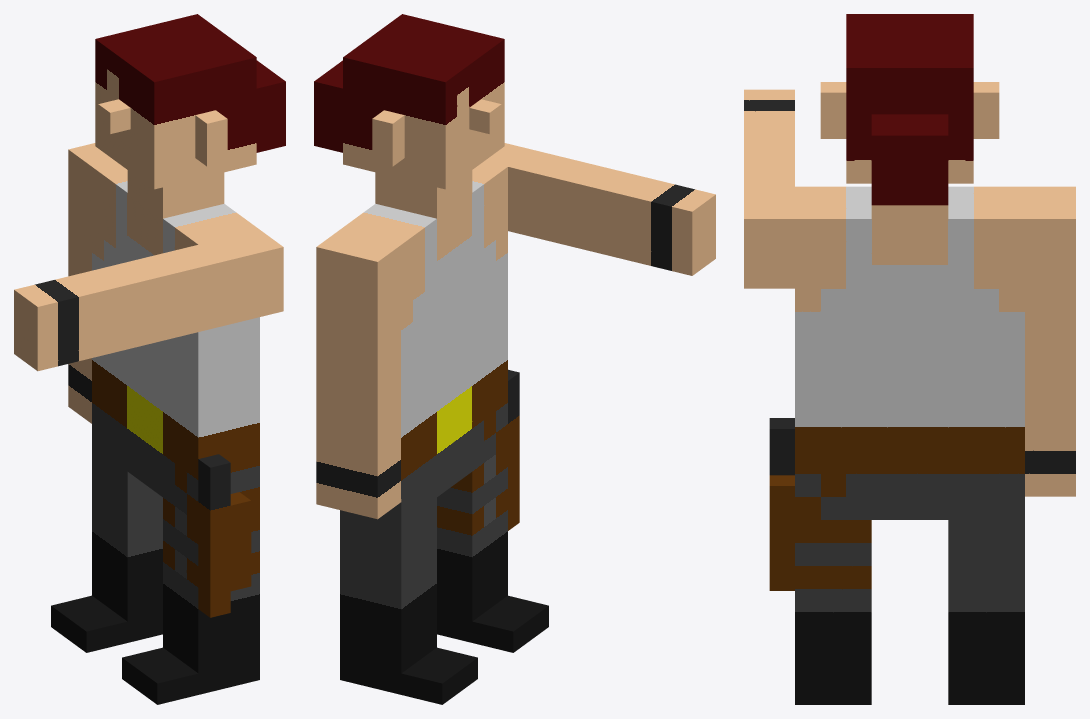
Rendered from woman_01_handgun_f.fbx.
3 renders of one model, left to right at view 1: azimuth 30°, elevation 25°; view 2: azimuth 150°, elevation 25°; view 3: azimuth 270°, elevation 25°, orthographic. The views are drawn at different scales.
Visible parts, largest first — view 1: woman_01_handgun.woman_handgun_01; view 2: woman_01_handgun.woman_handgun_01; view 3: woman_01_handgun.woman_handgun_01.
Part boxes in pixels (x1,y1,x2,y2): woman_01_handgun.woman_handgun_01: (14, 14, 285, 704); woman_01_handgun.woman_handgun_01: (314, 14, 715, 704); woman_01_handgun.woman_handgun_01: (744, 14, 1075, 704).
Bounding box in the file's own units: 1.5 × 2.8 × 1.3.
1 material, 1 textured.
